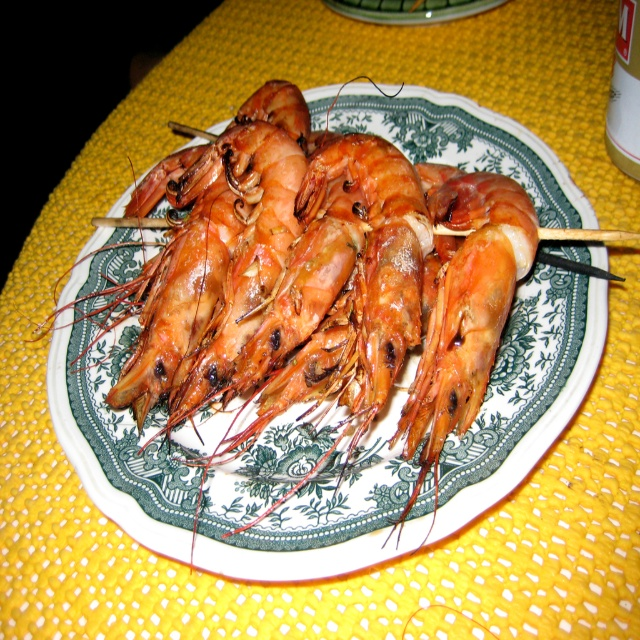Shrimp: (11, 72, 541, 576)
